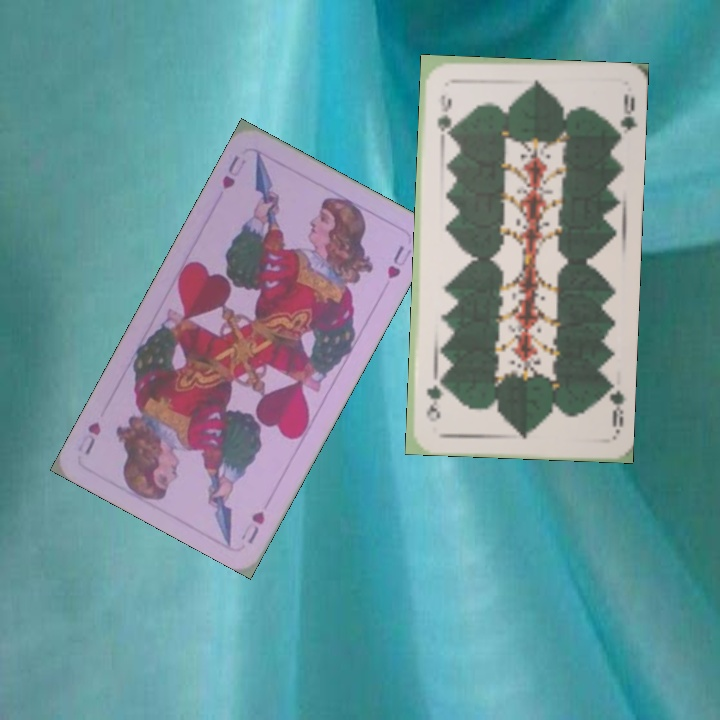G9: (600, 377, 627, 436), (433, 91, 453, 139)
HU: (218, 151, 243, 193), (243, 506, 268, 547)
